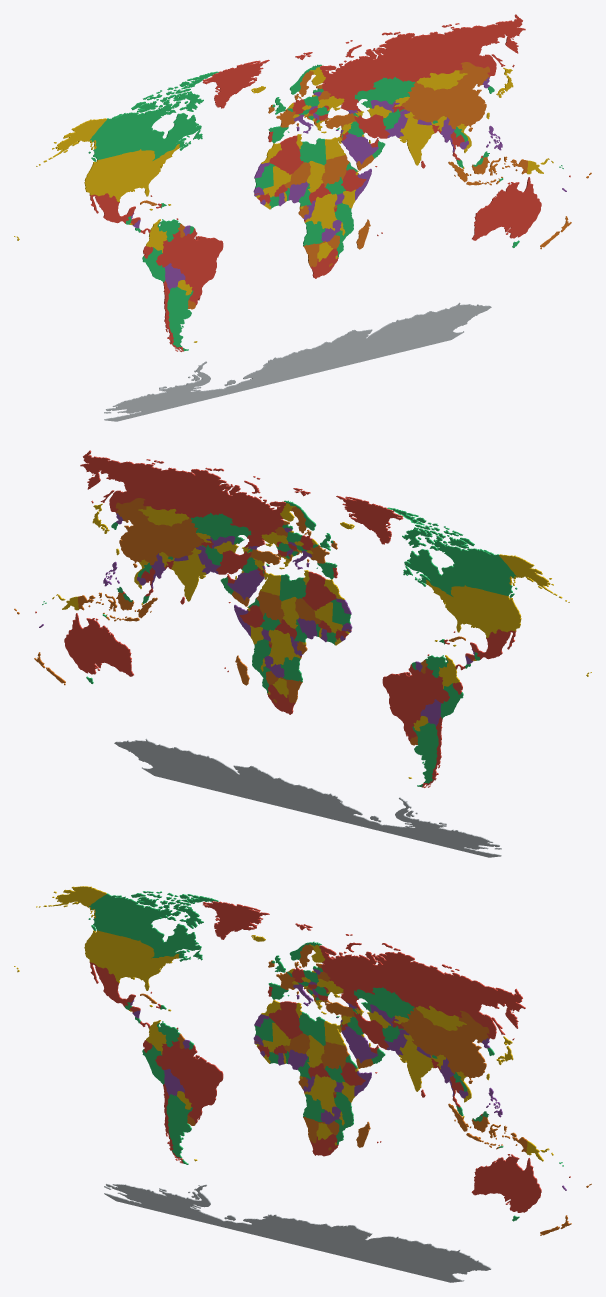
The model's file is worldmap.glb.
3 views of the same model, one above another, from view 1: azimuth 30°, elevation 25°; view 2: azimuth 150°, elevation 25°; view 3: azimuth 330°, elevation 25° (orthographic).
Parts seen in each view (by area): view 1: Antarctica, Russia, Canada, United States, China, Australia, Brazil, Greenland, Kazakhstan, India, Argentina, Algeria (+8 smaller); view 2: Antarctica, Russia, Canada, United States, China, Australia, Brazil, Greenland, Kazakhstan, India, Argentina, Algeria (+8 smaller); view 3: Antarctica, Russia, Canada, United States, China, Brazil, Australia, Greenland, Kazakhstan, India, Argentina, Indonesia (+8 smaller).
Part boxes in pixels (bbox=[...]): Antarctica: bbox=[104, 302, 491, 421]; Russia: bbox=[312, 14, 525, 111]; Canada: bbox=[88, 71, 218, 161]; United States: bbox=[36, 118, 179, 201]; China: bbox=[401, 62, 490, 131]; Australia: bbox=[472, 177, 541, 247]; Brazil: bbox=[156, 228, 223, 305]; Greenland: bbox=[202, 59, 269, 108]; Kazakhstan: bbox=[354, 77, 415, 108]; India: bbox=[399, 112, 446, 165]; Argentina: bbox=[167, 286, 193, 351]; Algeria: bbox=[269, 135, 303, 174]; Antarctica: bbox=[114, 738, 501, 857]; Russia: bbox=[80, 450, 293, 547]; Canada: bbox=[387, 507, 517, 597]; United States: bbox=[426, 554, 569, 637]; China: bbox=[115, 498, 204, 567]; Australia: bbox=[64, 613, 133, 683]; Brazil: bbox=[382, 664, 449, 741]; Greenland: bbox=[336, 495, 403, 544]; Kazakhstan: bbox=[190, 513, 251, 544]; India: bbox=[159, 548, 206, 601]; Argentina: bbox=[412, 722, 438, 787]; Algeria: bbox=[302, 571, 336, 610]; Antarctica: bbox=[104, 1183, 491, 1282]; Russia: bbox=[312, 934, 525, 1040]; Canada: bbox=[88, 891, 218, 961]; United States: bbox=[36, 886, 179, 990]; China: bbox=[401, 1007, 489, 1083]; Brazil: bbox=[155, 1040, 223, 1123]; Australia: bbox=[471, 1154, 541, 1221]; Greenland: bbox=[203, 901, 269, 939]; Kazakhstan: bbox=[354, 987, 414, 1019]; India: bbox=[398, 1034, 445, 1091]; Argentina: bbox=[166, 1094, 192, 1164]; Indonesia: bbox=[448, 1103, 527, 1152].
Bounding box in the file's own units: 9.07 × 4.9 × 0.0377.
